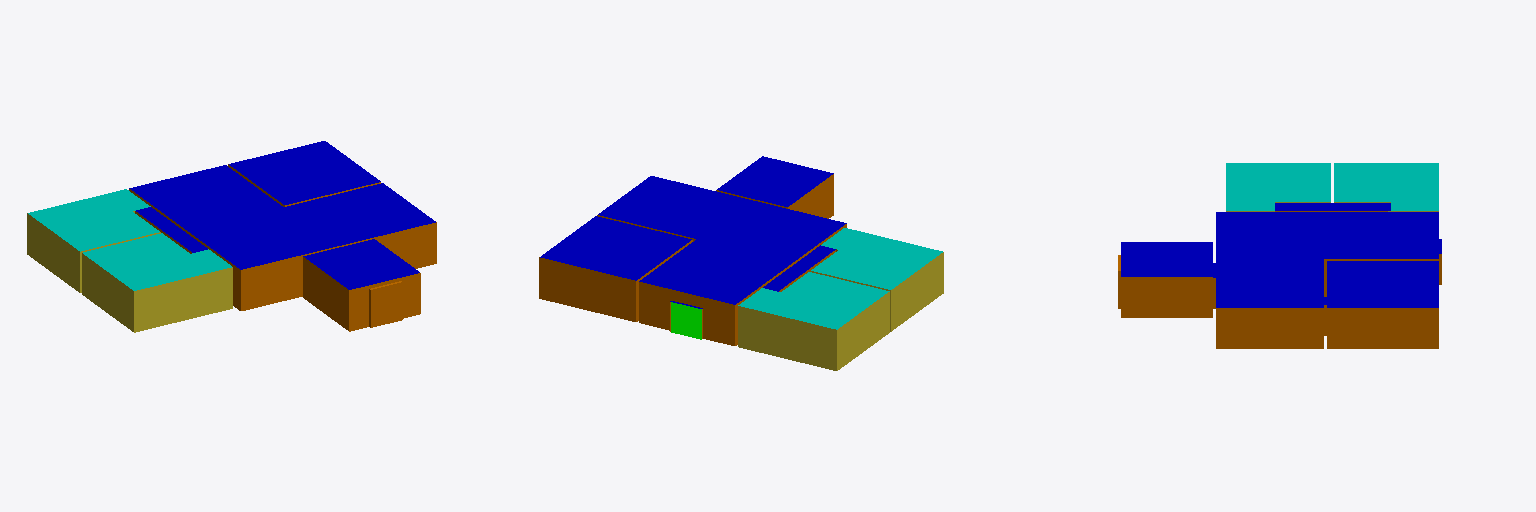
The model's file is Recepcion.obj.
3 renders of one model, left to right at view 1: azimuth 30°, elevation 25°; view 2: azimuth 150°, elevation 25°; view 3: azimuth 270°, elevation 25°, orthographic.
Visible parts, largest first — view 1: Plane.001; view 2: Plane.001; view 3: Plane.001.
Part boxes in pixels (left/top/right/bottom): Plane.001: left=27, top=141, right=436, bottom=332; Plane.001: left=539, top=156, right=943, bottom=370; Plane.001: left=1118, top=163, right=1441, bottom=348.
Bounding box in the file's own units: 22.47 × 3 × 21.25.